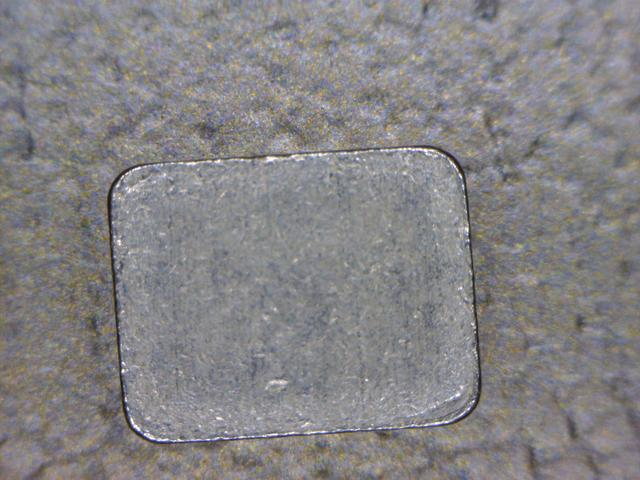ok: (104, 143, 488, 438)
